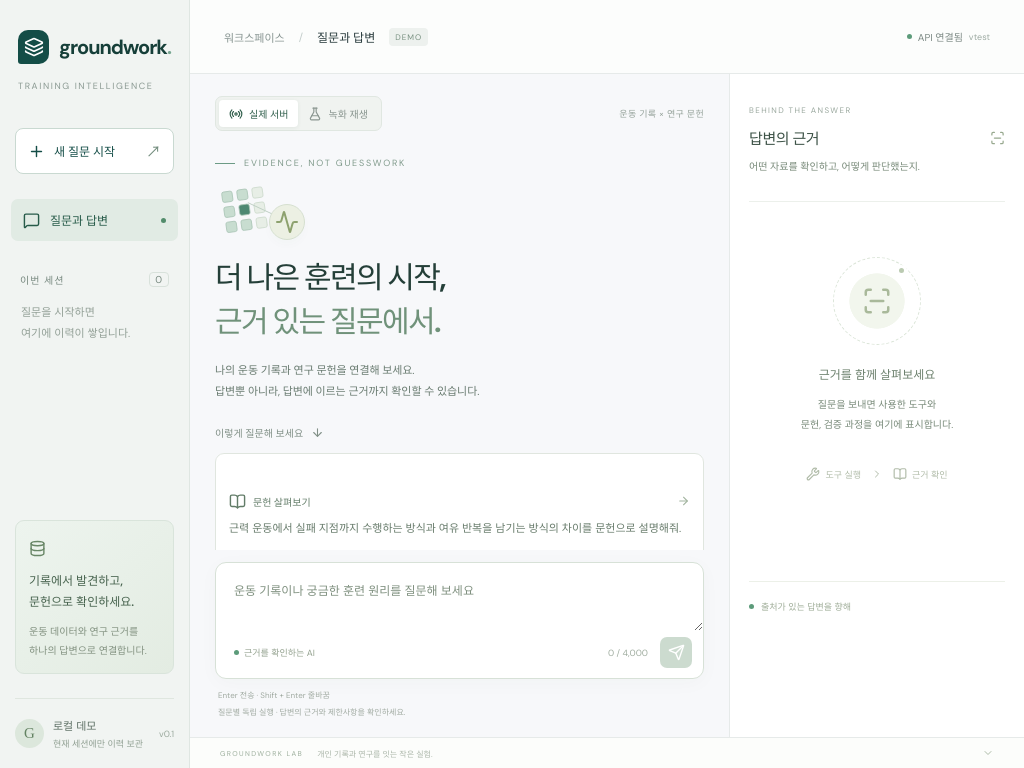
it: question and evidence experience › replays the single labeled format example without any POST or manufactured execution date
Click the button "녹화 재생" at [338, 114], box x1=298 y1=100 x2=378 y2=127
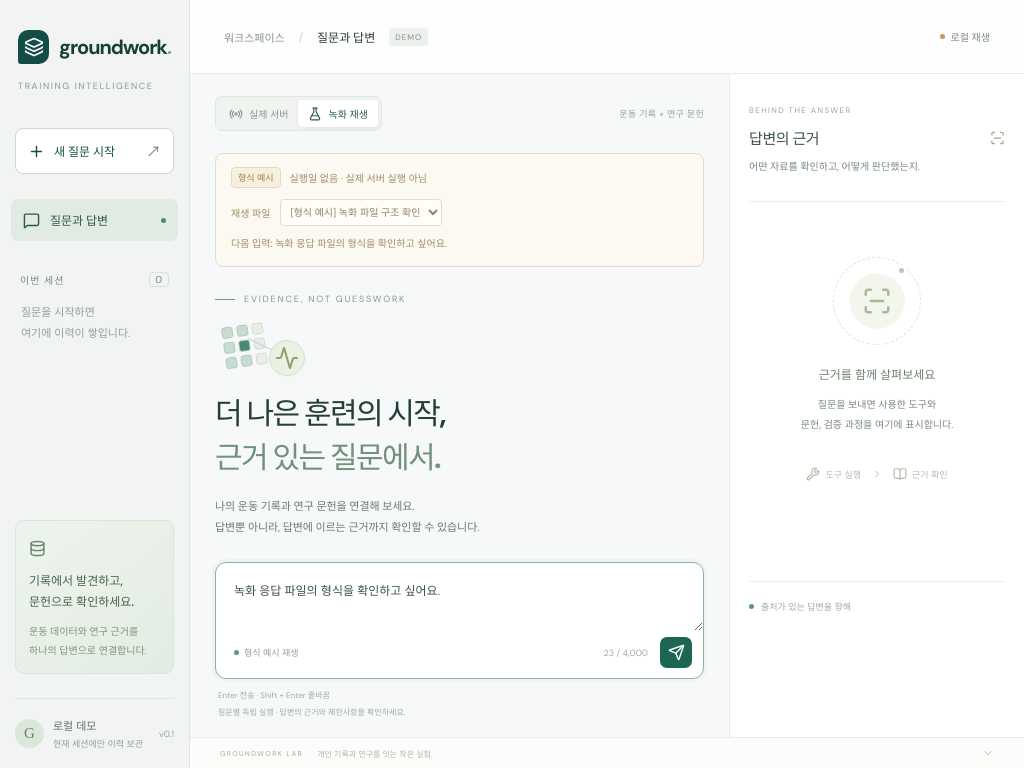
expect the text "형식 예시" is shown: met, box x1=231 y1=167 x2=280 y2=188
expect the text "실행일 없음 · 실제 서버 실행 아님" is shown: met, box x1=290 y1=170 x2=427 y2=185
Click the button named "질문 보내기" at [676, 653], box x1=660 y1=637 x2=692 y2=668
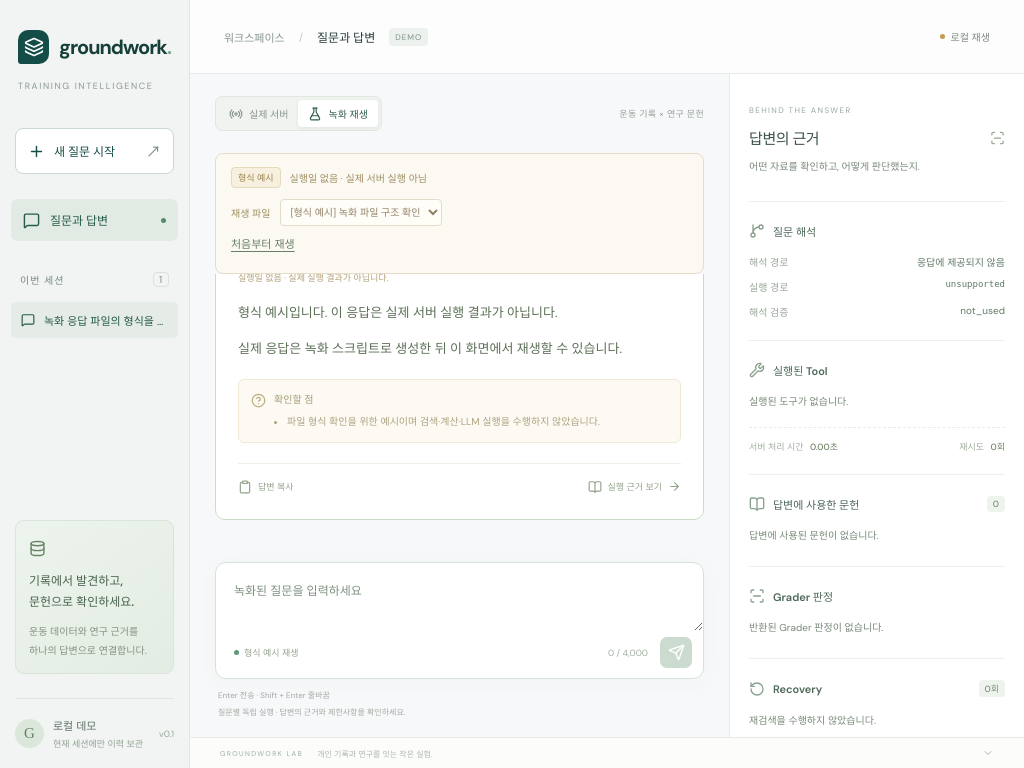
expect the text "이 응답은 실제 서버 실행 결과가 아닙니다" is shown: met, box x1=289 y1=304 x2=558 y2=321
